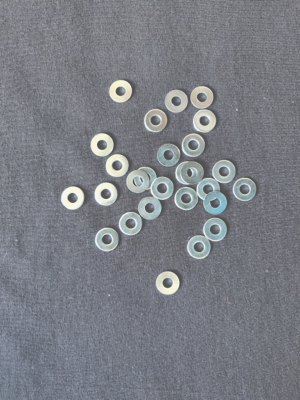circle: (180, 132, 207, 159), (108, 78, 135, 105), (94, 179, 120, 207), (233, 176, 258, 205), (196, 178, 222, 204), (137, 195, 163, 221), (89, 132, 115, 158), (155, 271, 183, 295), (194, 108, 219, 134), (213, 159, 238, 185), (187, 235, 212, 261), (95, 227, 120, 253), (157, 142, 183, 167), (142, 109, 168, 134), (164, 88, 189, 114), (60, 186, 85, 212), (119, 211, 144, 236), (190, 86, 215, 110), (151, 176, 175, 201), (105, 153, 129, 178), (176, 162, 202, 185), (175, 187, 199, 211), (203, 218, 227, 242), (134, 167, 158, 191), (181, 162, 204, 186), (204, 192, 228, 214), (127, 170, 149, 194)
